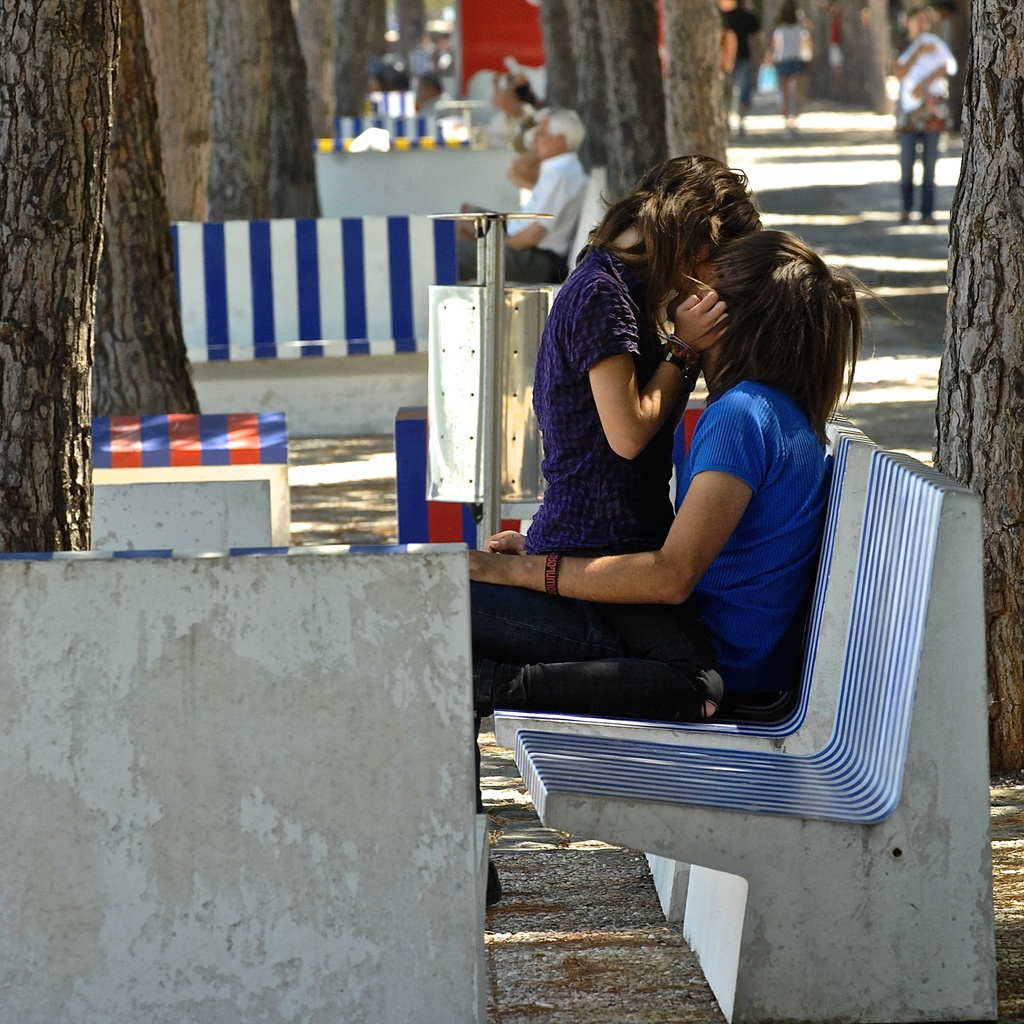Human_hand: (673, 289, 736, 354), (485, 530, 530, 557), (467, 550, 495, 585)
